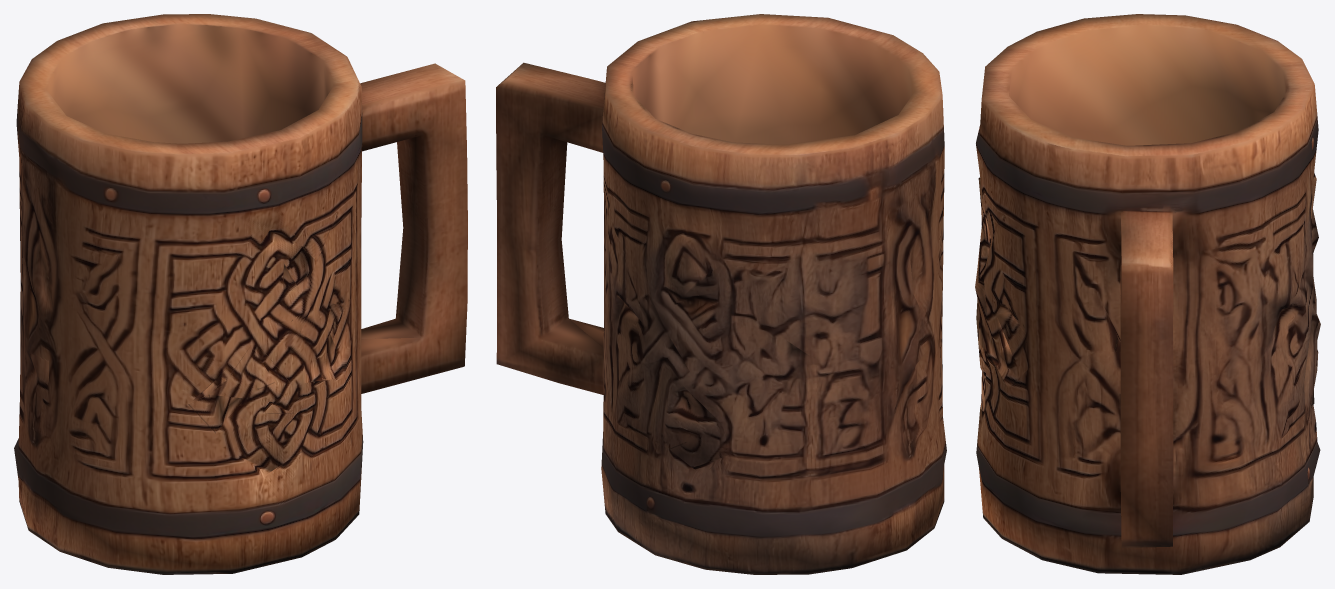
The model's file is Mug.glb.
The picture shows the model from 3 angles, left to right: view 1: azimuth 30°, elevation 25°; view 2: azimuth 150°, elevation 25°; view 3: azimuth 270°, elevation 25°; orthographic projection.
Visible parts, largest first — view 1: AssetGen; view 2: AssetGen; view 3: AssetGen.
Part boxes in pixels (x1,y1,x2,y2): AssetGen: (14,14,467,574); AssetGen: (496,14,946,574); AssetGen: (975,14,1320,574).
Size of the model in its own units: 2 by 1.93 by 1.45.
Materials: 1 (1 with a texture image).
